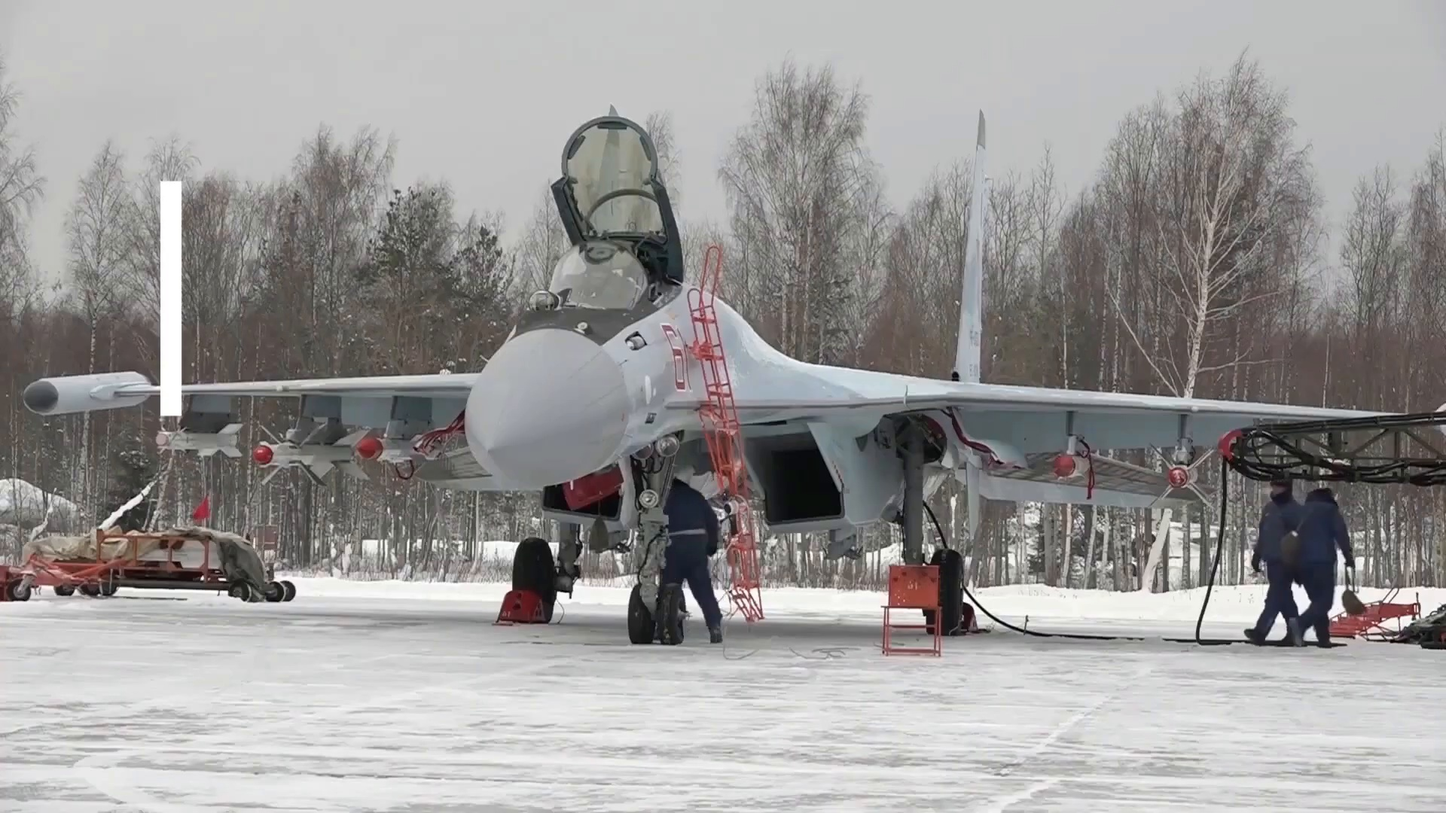Su35: (21, 103, 1401, 636)
